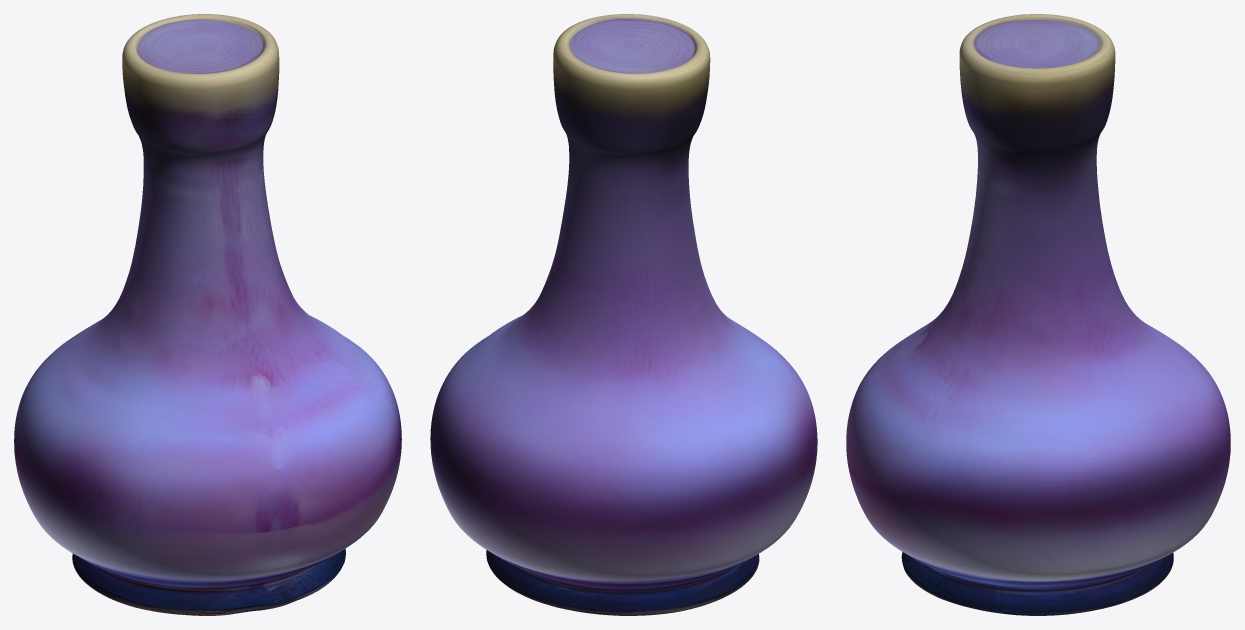
Rendered from junyao.glb.
3 renders of one model, left to right at view 1: azimuth 30°, elevation 25°; view 2: azimuth 150°, elevation 25°; view 3: azimuth 270°, elevation 25°, orthographic.
Size of the model in its own units: 0.7364 by 1.09 by 0.7334.
Materials: 1 (1 with a texture image).
